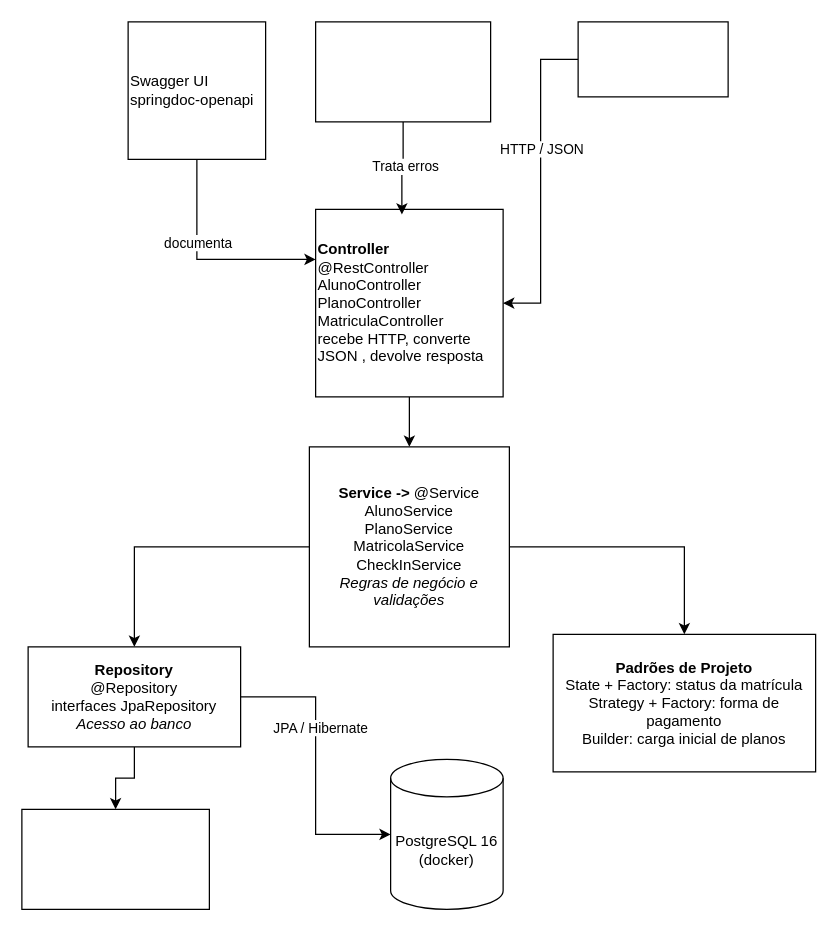
Image size: 838x931. Some labels were removed from this diagram. Each missing label, with the centre of its shape:
"Cliente (Swagger UI / Postman / Front-end)" goes at point 652,59.
"GlobalExceptionHandler @RestControllerAdvice" goes at point 402,71.
"Model - @Entity Aluno, Plano, Matrícula, CheckIn" goes at point 115,858.
